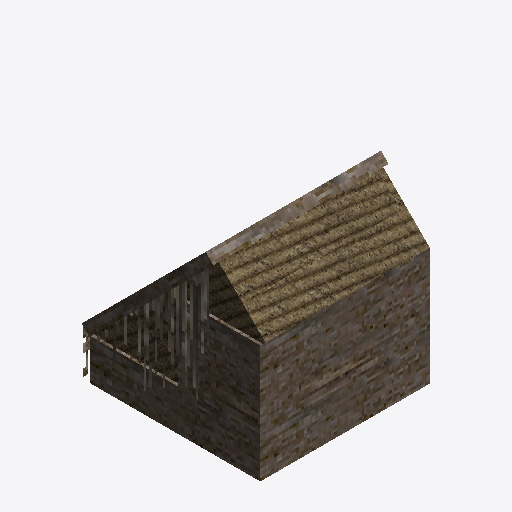
A Minecraft block model of 15 cuboids, rendered isometrically (azimuth 45°, elevation 35.3°) with the resource pack's own textures.
Parts seen in each view (by area): element 12, element 11, element 10, element 9, element 13, element 6, element 3, element 8.
Boxes of the visible parts, <box> form: element 12: <box>178,248,429,433</box>; element 11: <box>90,334,429,480</box>; element 10: <box>141,207,429,382</box>; element 9: <box>225,171,400,298</box>; element 13: <box>97,268,208,402</box>; element 6: <box>198,151,387,268</box>; element 3: <box>95,259,246,359</box>; element 8: <box>90,257,205,331</box>.
Bounding box in the file's own units: 16 × 19.75 × 16.72.